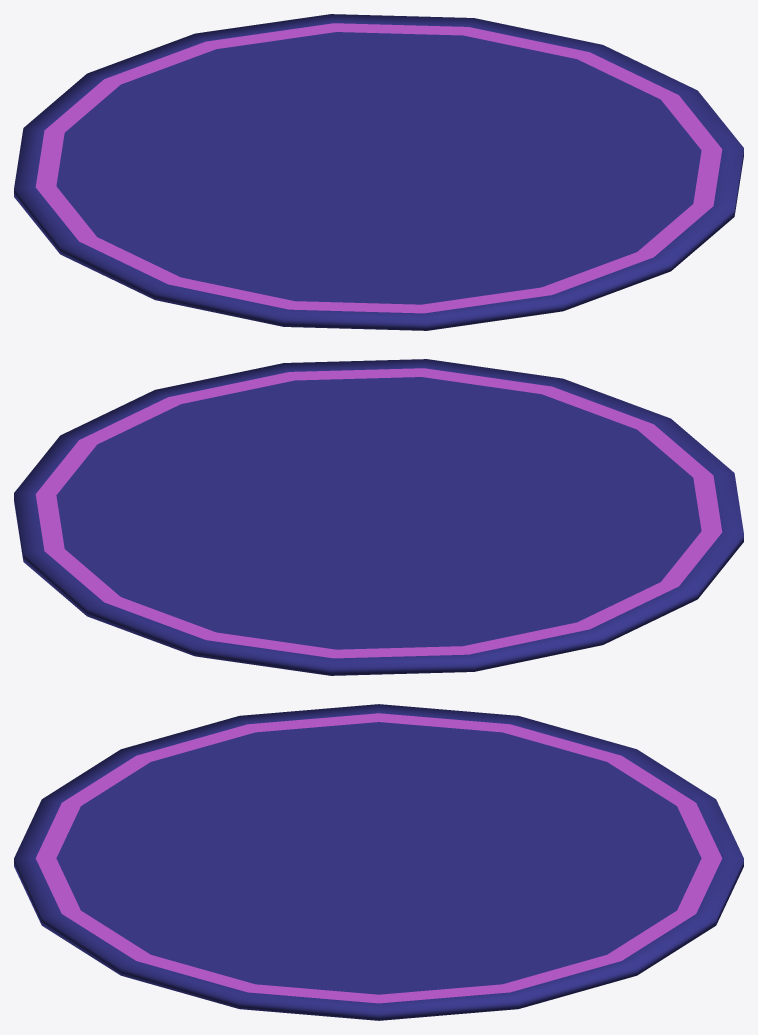
File: Rug.fbx
3 views of the same model, one above another, from view 1: azimuth 30°, elevation 25°; view 2: azimuth 150°, elevation 25°; view 3: azimuth 270°, elevation 25° (orthographic).
Visible parts, largest first — view 1: Circle; view 2: Circle; view 3: Circle.
Part boxes in pixels (bbox=[...]): Circle: bbox=[14, 14, 743, 330]; Circle: bbox=[14, 359, 743, 675]; Circle: bbox=[14, 704, 743, 1020].
Bounding box in the file's own units: 400 × 5 × 400.
